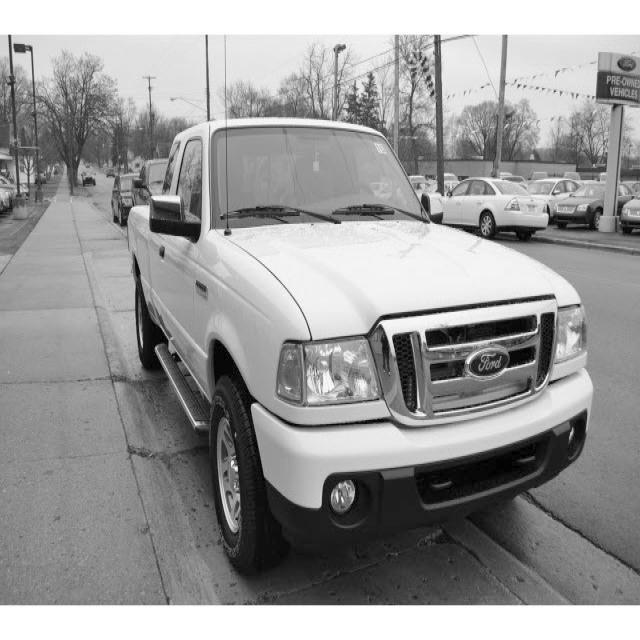car: (130, 94, 596, 559), (441, 176, 549, 240), (552, 180, 636, 229), (525, 178, 580, 222), (112, 165, 140, 226), (620, 190, 639, 233)
